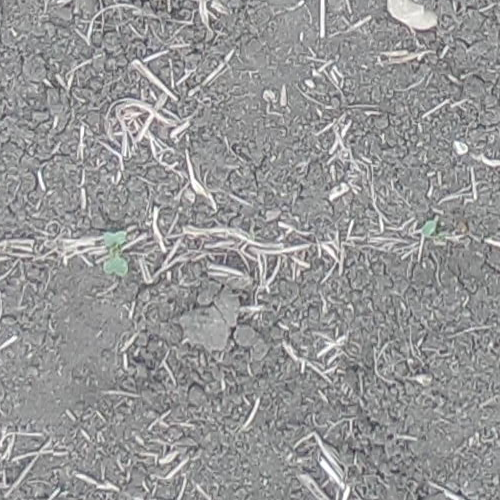plant: (103, 232, 127, 276), (421, 216, 437, 239)
